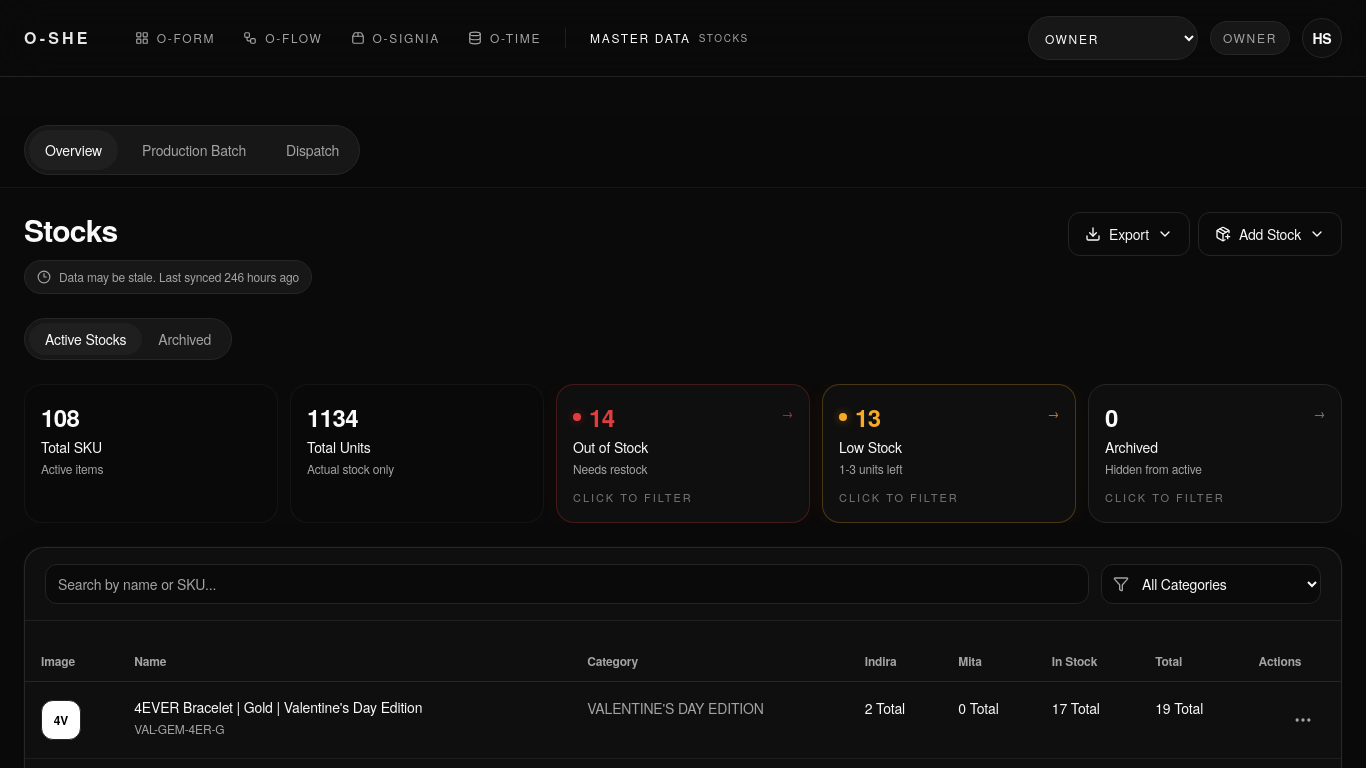
OverviewPage › shows only global stock exports in the top export menu
The width and height of the screenshot is (1366, 768).
Click the button with aria-label "Open export options": (1129, 234) [1068, 212, 1190, 256]
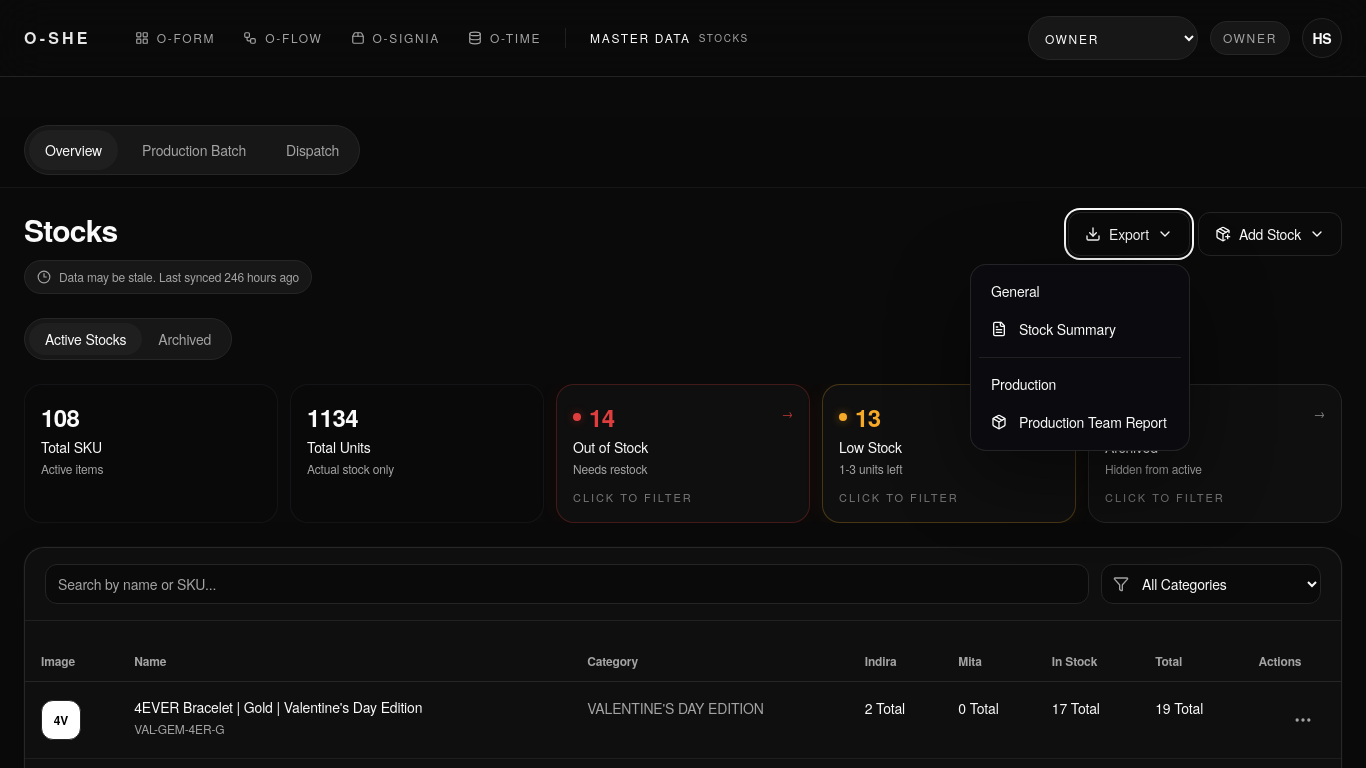
Expected: the button "Stock Summary" is shown, [979, 309, 1181, 349]
Expected: the button "Production Team Report" is shown, [979, 402, 1181, 442]
